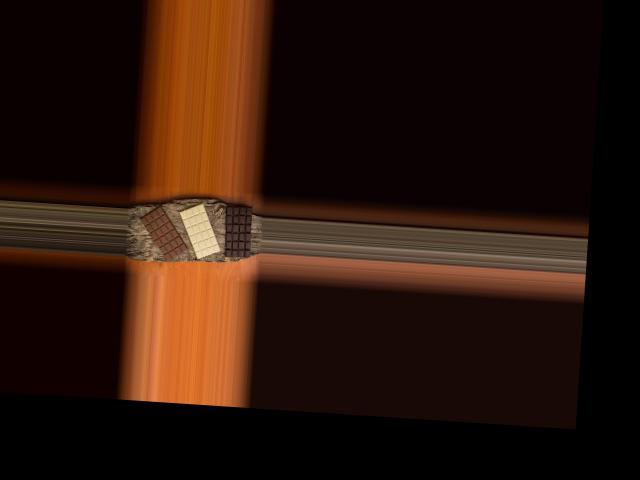chocolate: (223, 204, 254, 258)
